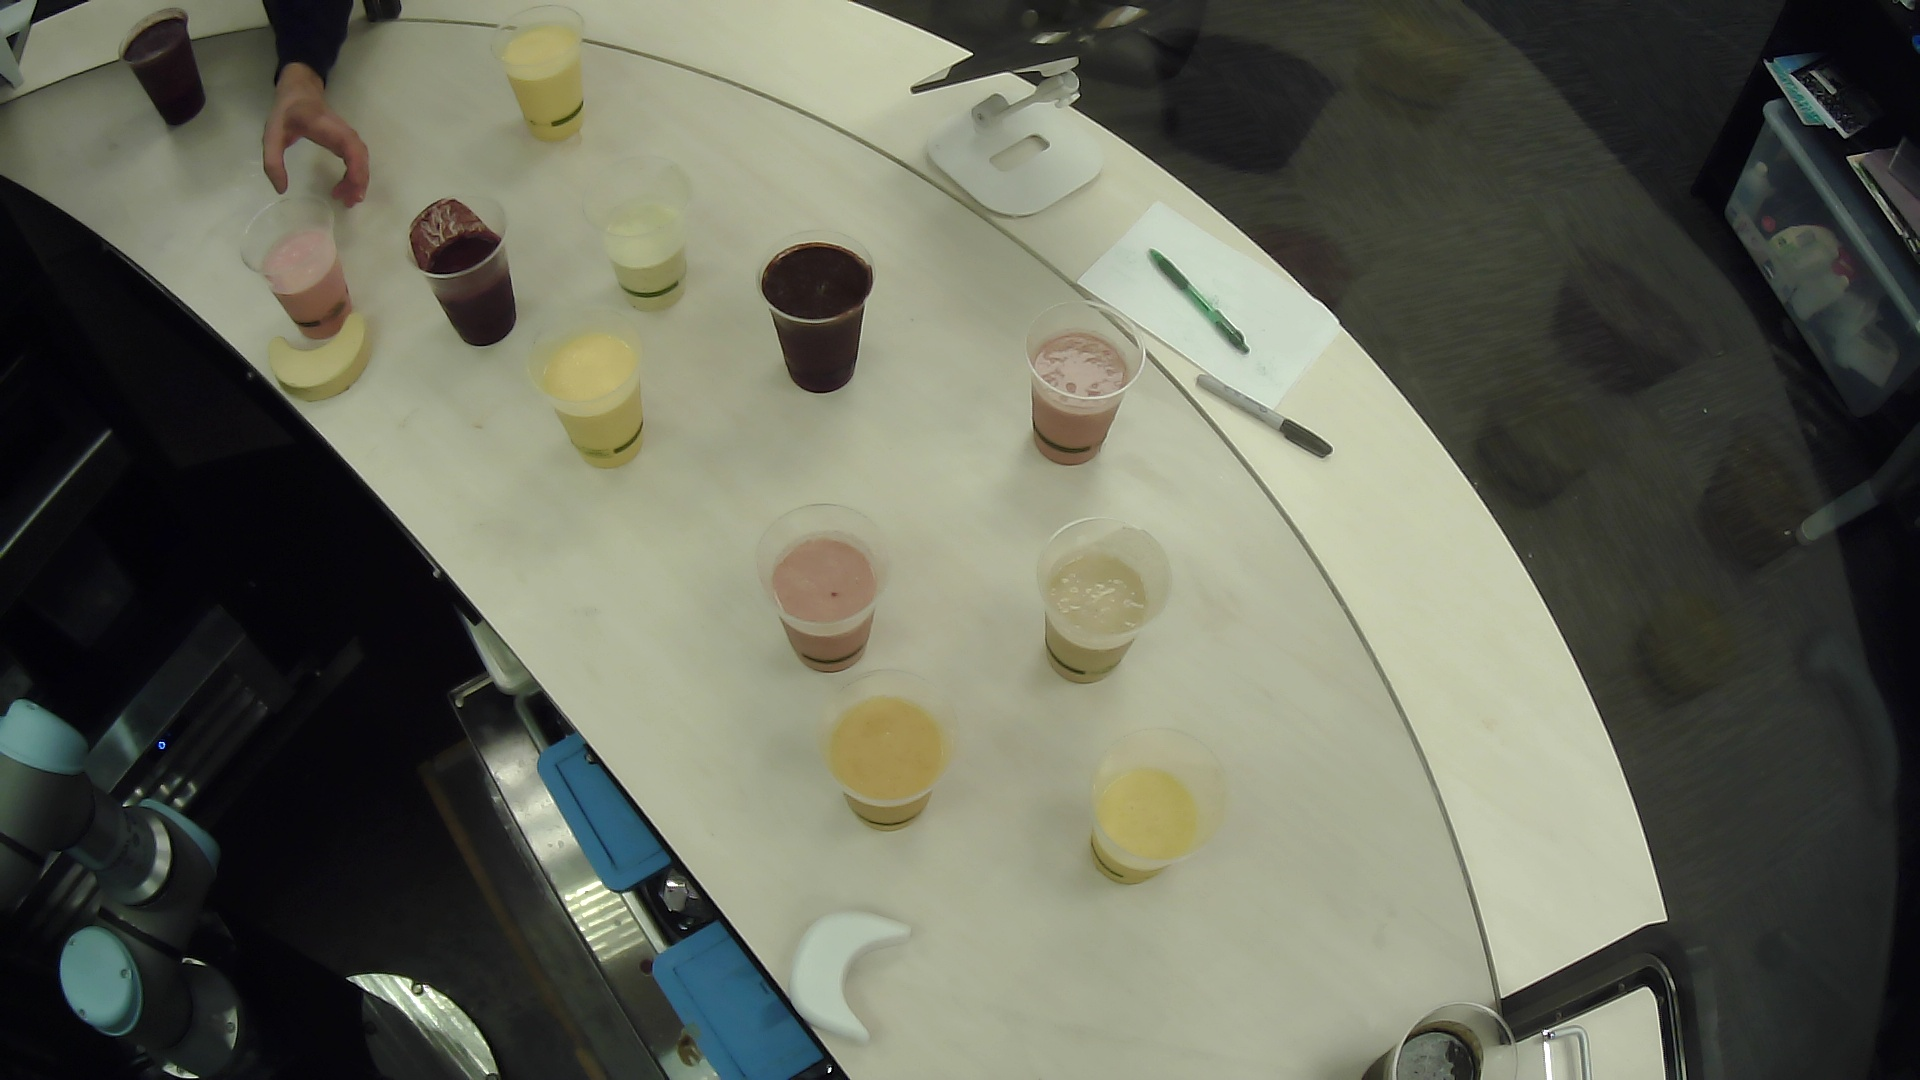Deliver: (773, 898, 931, 1054), (256, 299, 390, 411)
Full_cup: (1060, 720, 1258, 913), (992, 291, 1168, 483), (737, 481, 905, 682), (1025, 501, 1179, 702), (746, 225, 894, 423), (218, 185, 386, 356), (812, 658, 963, 849), (556, 142, 708, 327), (401, 185, 553, 356), (527, 309, 662, 487), (483, 1, 618, 167), (1348, 984, 1536, 1080), (102, 1, 227, 144)
